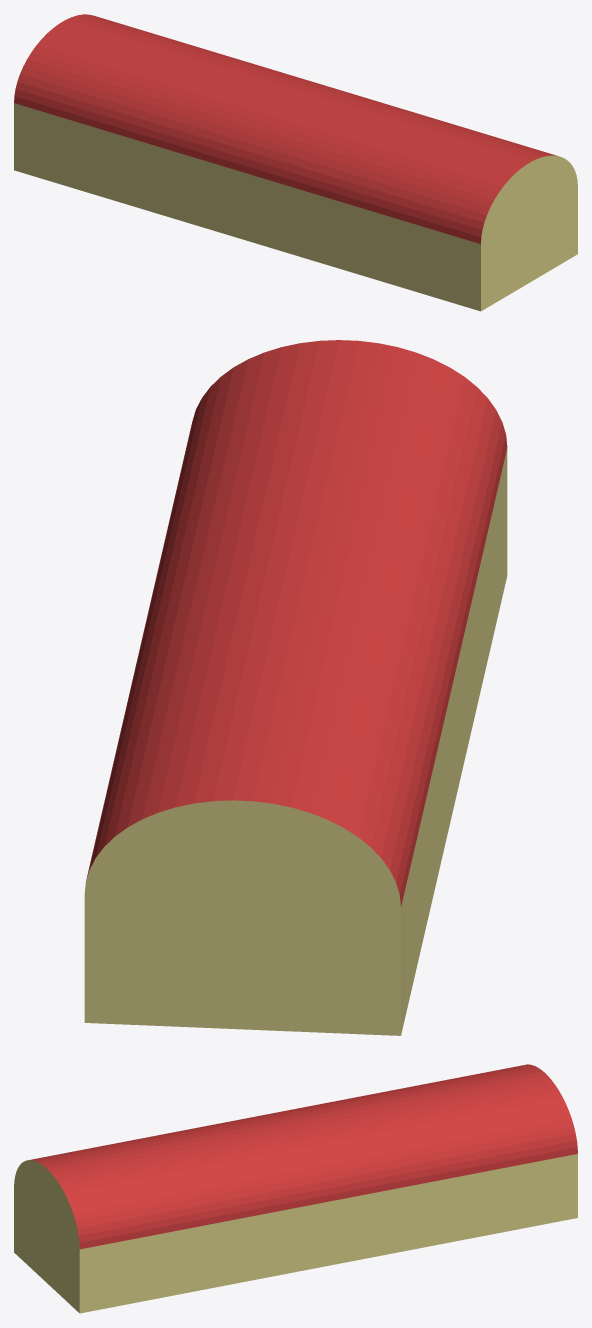
The picture shows the model from 3 angles, top to bottom: view 1: azimuth 30°, elevation 25°; view 2: azimuth 150°, elevation 25°; view 3: azimuth 270°, elevation 25°; orthographic projection. The views are drawn at different scales.
Bounding box in the file's own units: 20.49 × 31.14 × 6.96.
